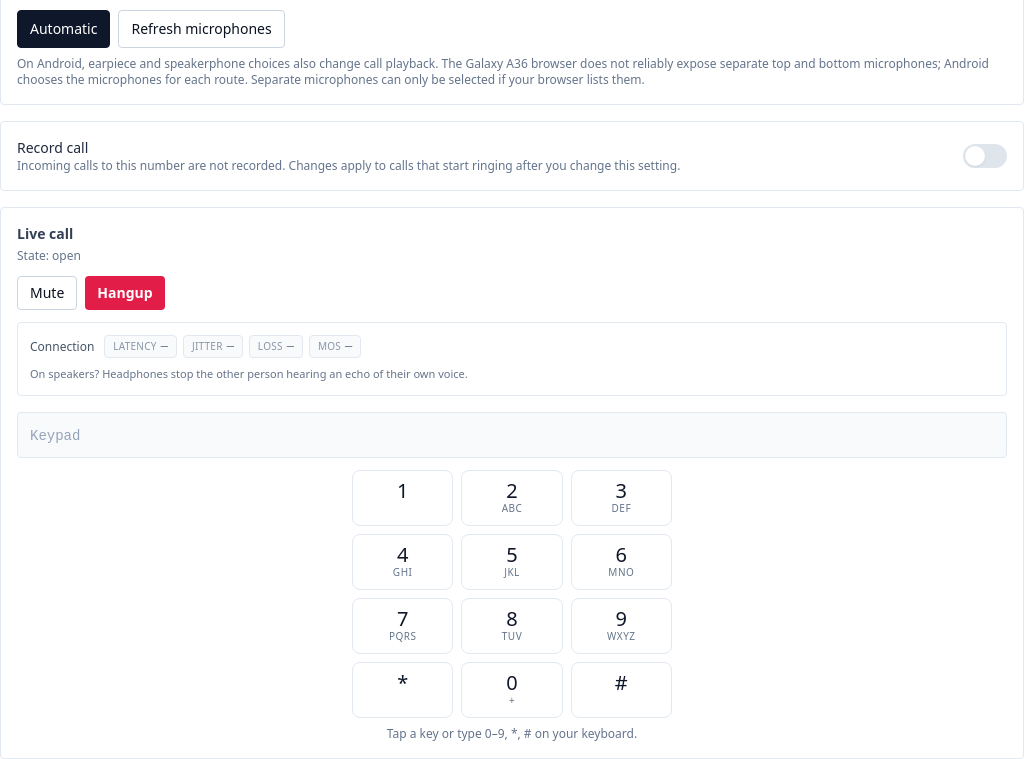
it: AnswerPage in-call keypad › sends a tapped key as a DTMF tone and shows what was sent
(page scrolled)
Check: the text "Incoming calls to this number are not recorded" is shown, box [17,157,285,174]
Click the button with aria-label "Send 5": (512, 562) [461,534,563,590]
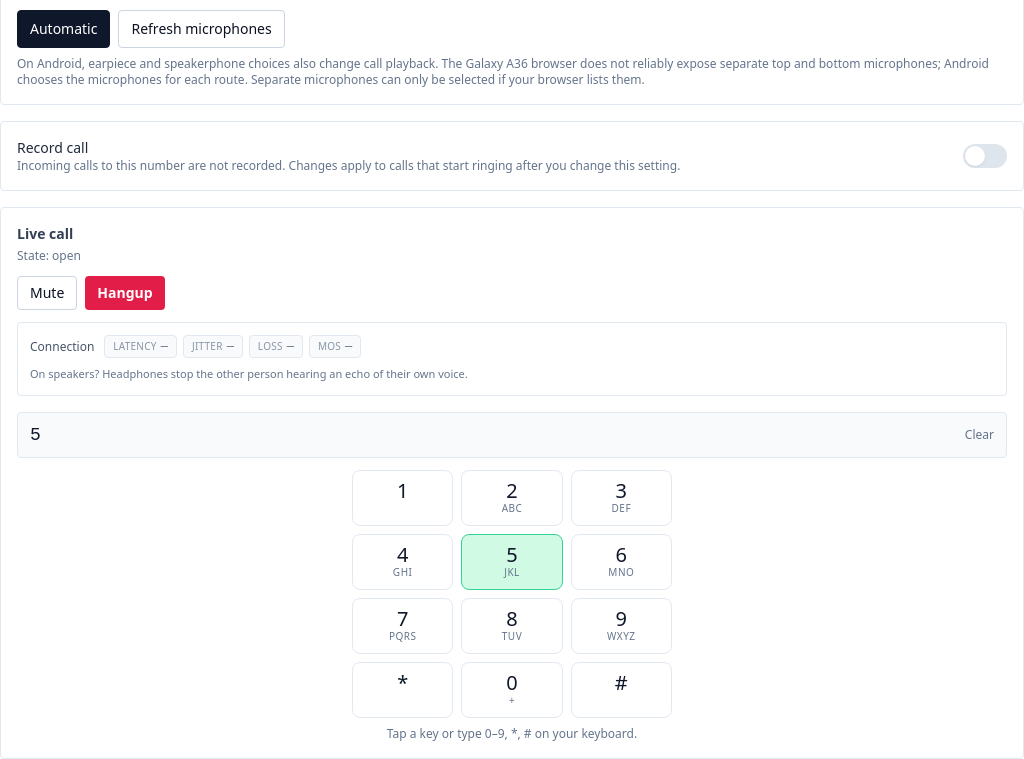
Click the button named "Send #": (621, 690) [571,662,672,718]
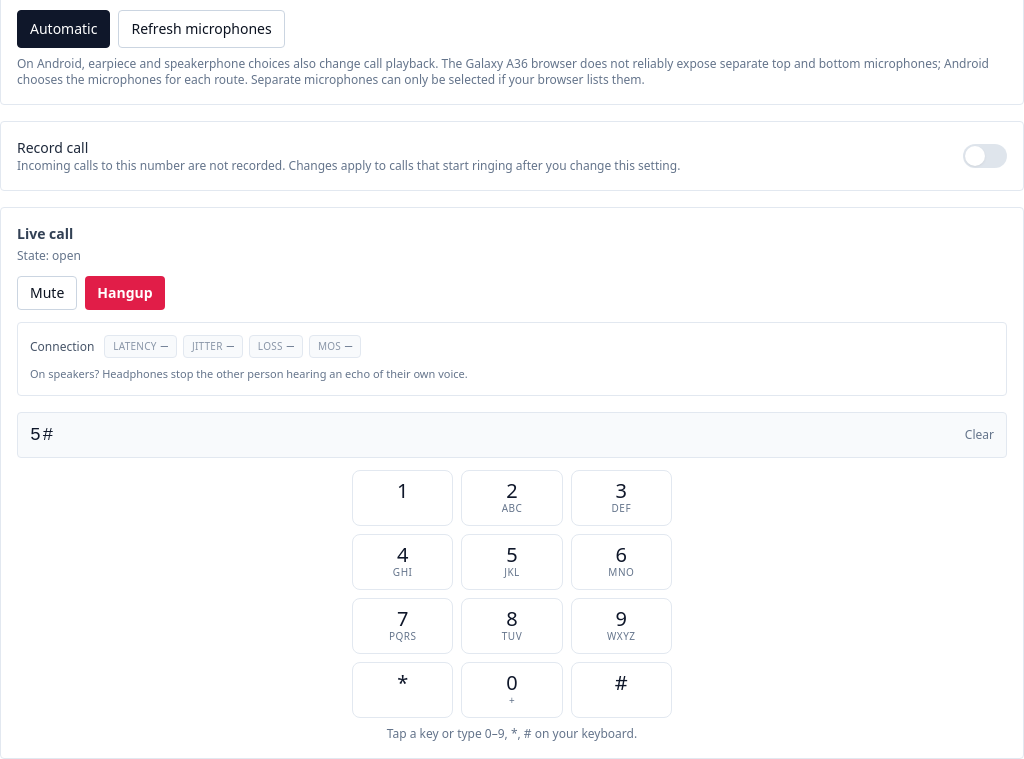
Check: the text "5#" is shown, box [30,420,55,448]
